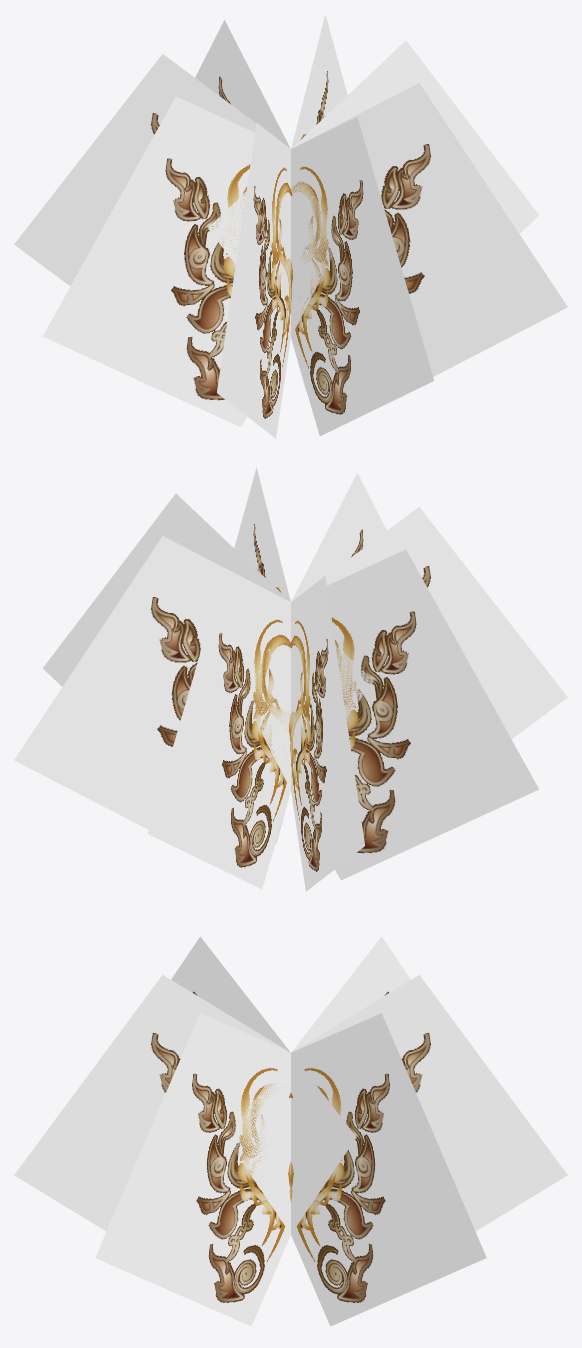
The model's file is Art_decor_01.glb.
3 renders of one model, top to bottom at view 1: azimuth 30°, elevation 25°; view 2: azimuth 150°, elevation 25°; view 3: azimuth 270°, elevation 25°, orthographic. The views are drawn at different scales.
Parts seen in each view (by area): view 1: Art_decor_01; view 2: Art_decor_01; view 3: Art_decor_01.
Boxes of the visible parts, x1,y1,x2,y2 form: Art_decor_01: (14, 14, 567, 438); Art_decor_01: (14, 467, 567, 891); Art_decor_01: (14, 936, 567, 1326).
Bounding box in the file's own units: 2.49 × 1.67 × 2.49.
1 material, 1 textured.
